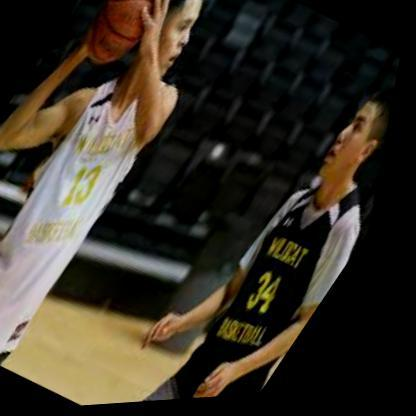basketball: (66, 0, 182, 79)
